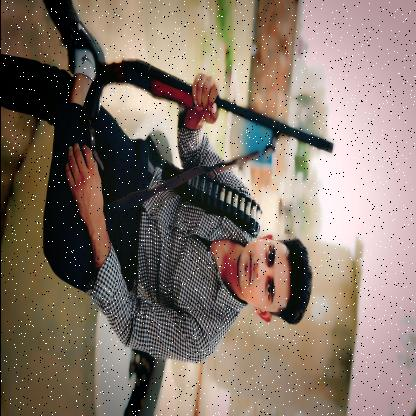rifle: (81, 56, 334, 154)
